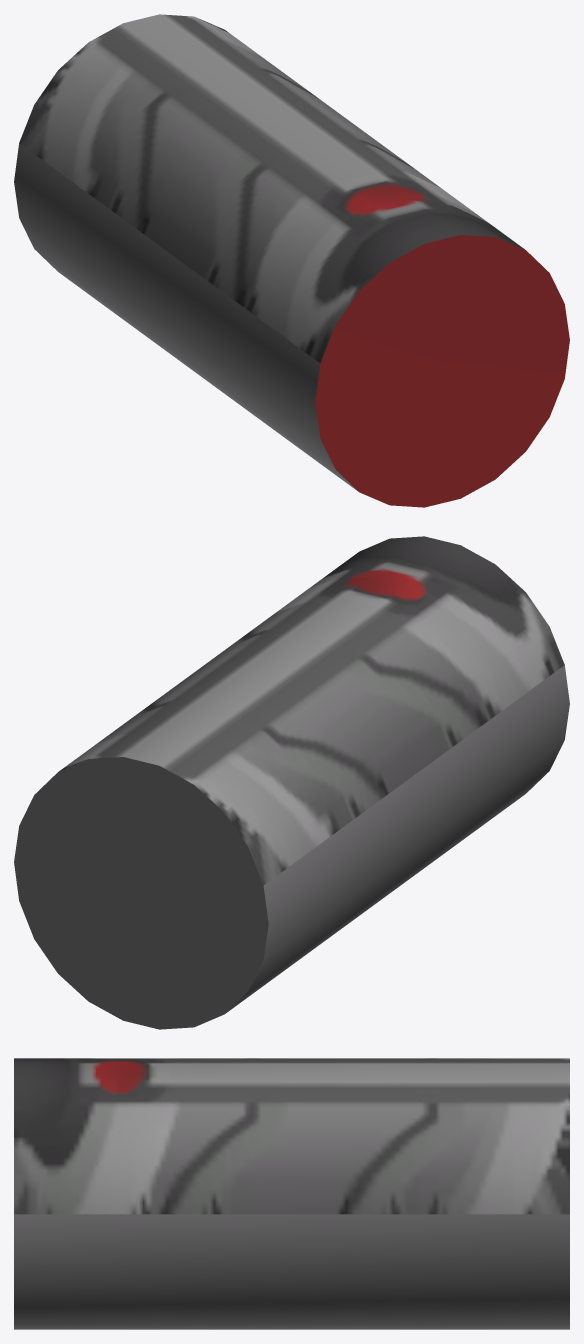
File: Building_GlucosoidPump.obj
3 views of the same model, one above another, from view 1: azimuth 30°, elevation 25°; view 2: azimuth 150°, elevation 25°; view 3: azimuth 270°, elevation 25° (orthographic). The views are drawn at different scales.
Parts seen in each view (by area): view 1: Body; view 2: Body; view 3: Body.
Part boxes in pixels (x1,y1,x2,y2): Body: (14, 14, 569, 507); Body: (14, 536, 569, 1029); Body: (14, 1058, 569, 1329).
Bounding box in the file's own units: 0.9 × 0.8908 × 1.84.
Materials: 1 (1 with a texture image).
